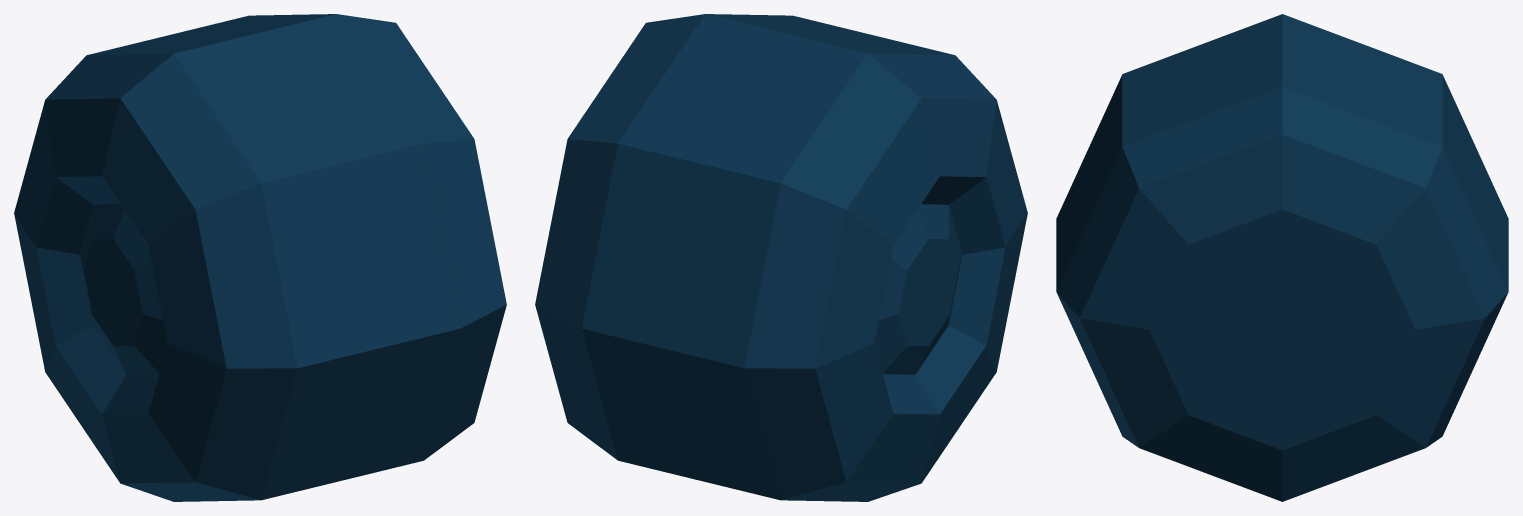
File: Tire-transformed.glb
3 renders of one model, left to right at view 1: azimuth 30°, elevation 25°; view 2: azimuth 150°, elevation 25°; view 3: azimuth 270°, elevation 25°, orthographic. The views are drawn at different scales.
Visible parts, largest first — view 1: Car03_1_WhFR.002; view 2: Car03_1_WhFR.002; view 3: Car03_1_WhFR.002.
Part boxes in pixels (x1=…): Car03_1_WhFR.002: x1=14, y1=14, x2=506, y2=501; Car03_1_WhFR.002: x1=535, y1=14, x2=1027, y2=501; Car03_1_WhFR.002: x1=1056, y1=14, x2=1508, y2=501.
Size of the model in its own units: 0.4913 by 0.6572 by 0.6572.
